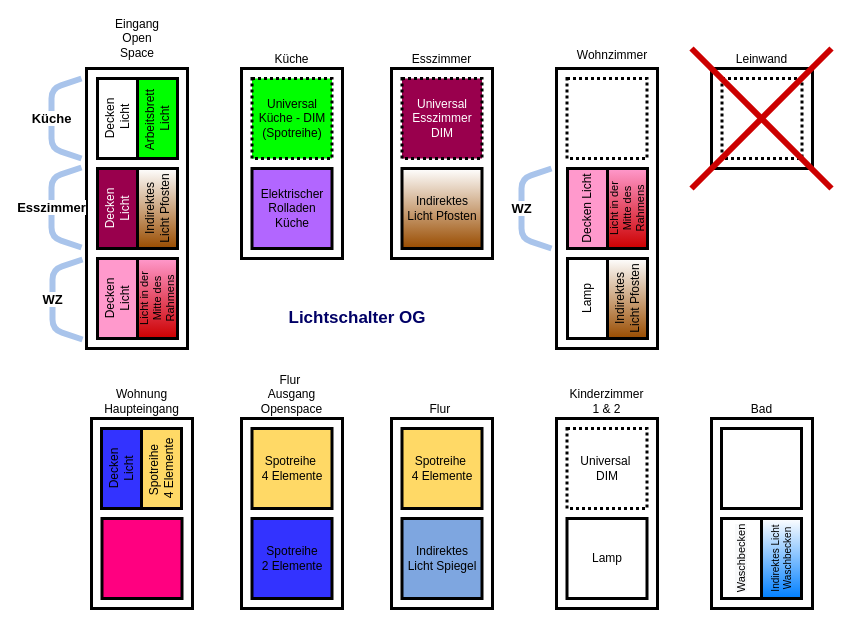
The diagram is 853 pixels wide and 627 high, and some of its shapes have lost their labels. The shapes that lost their labels are listed below. From the top down, each one's centre as x and y in pixels, then its label:
(606,118): Universal Wohnzimmer Spot - DIM
(761,118): Universal DIM (Leinwand)
(761,468): Mitte
(141,558): Treppe
